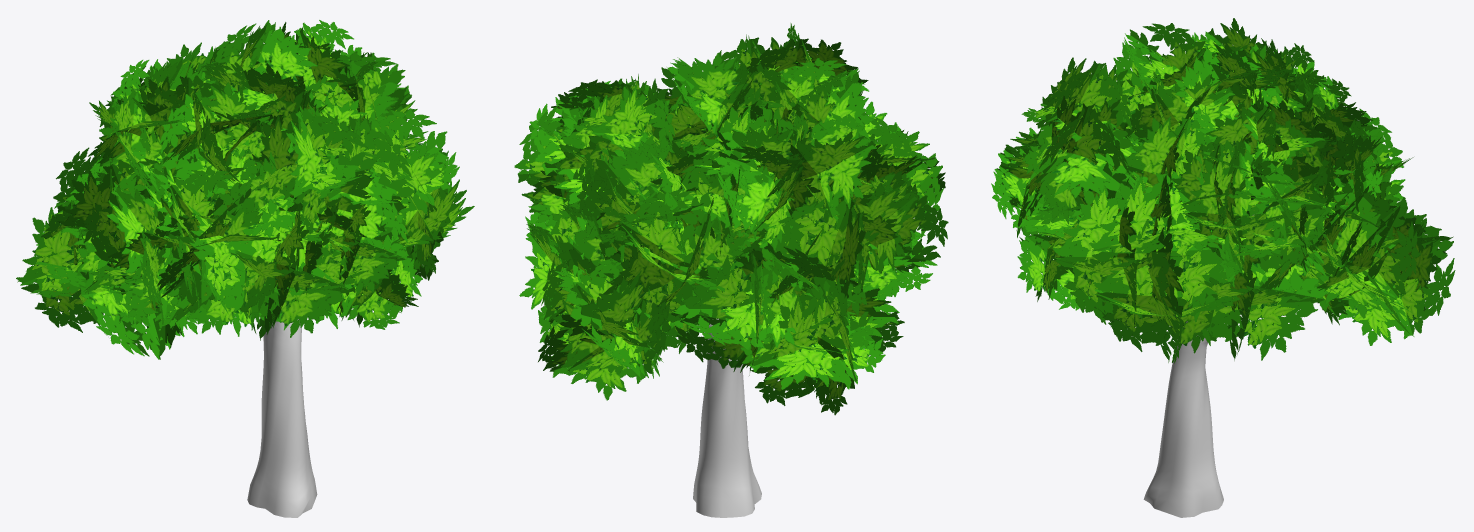
Rendered from OakLOD0.fbx.
The picture shows the model from 3 angles, left to right: view 1: azimuth 30°, elevation 25°; view 2: azimuth 150°, elevation 25°; view 3: azimuth 270°, elevation 25°; orthographic projection. The views are drawn at different scales.
Visible parts, largest first — view 1: Plane.077, Oak.001; view 2: Plane.077, Oak.001; view 3: Plane.077, Oak.001.
Part boxes in pixels (bbox=[...]): Plane.077: bbox=[16, 20, 474, 359]; Oak.001: bbox=[247, 316, 317, 517]; Plane.077: bbox=[514, 23, 948, 415]; Oak.001: bbox=[693, 318, 761, 517]; Plane.077: bbox=[991, 18, 1455, 363]; Oak.001: bbox=[1143, 214, 1254, 517].
Size of the model in its own units: 1535 by 1811 by 1676.
